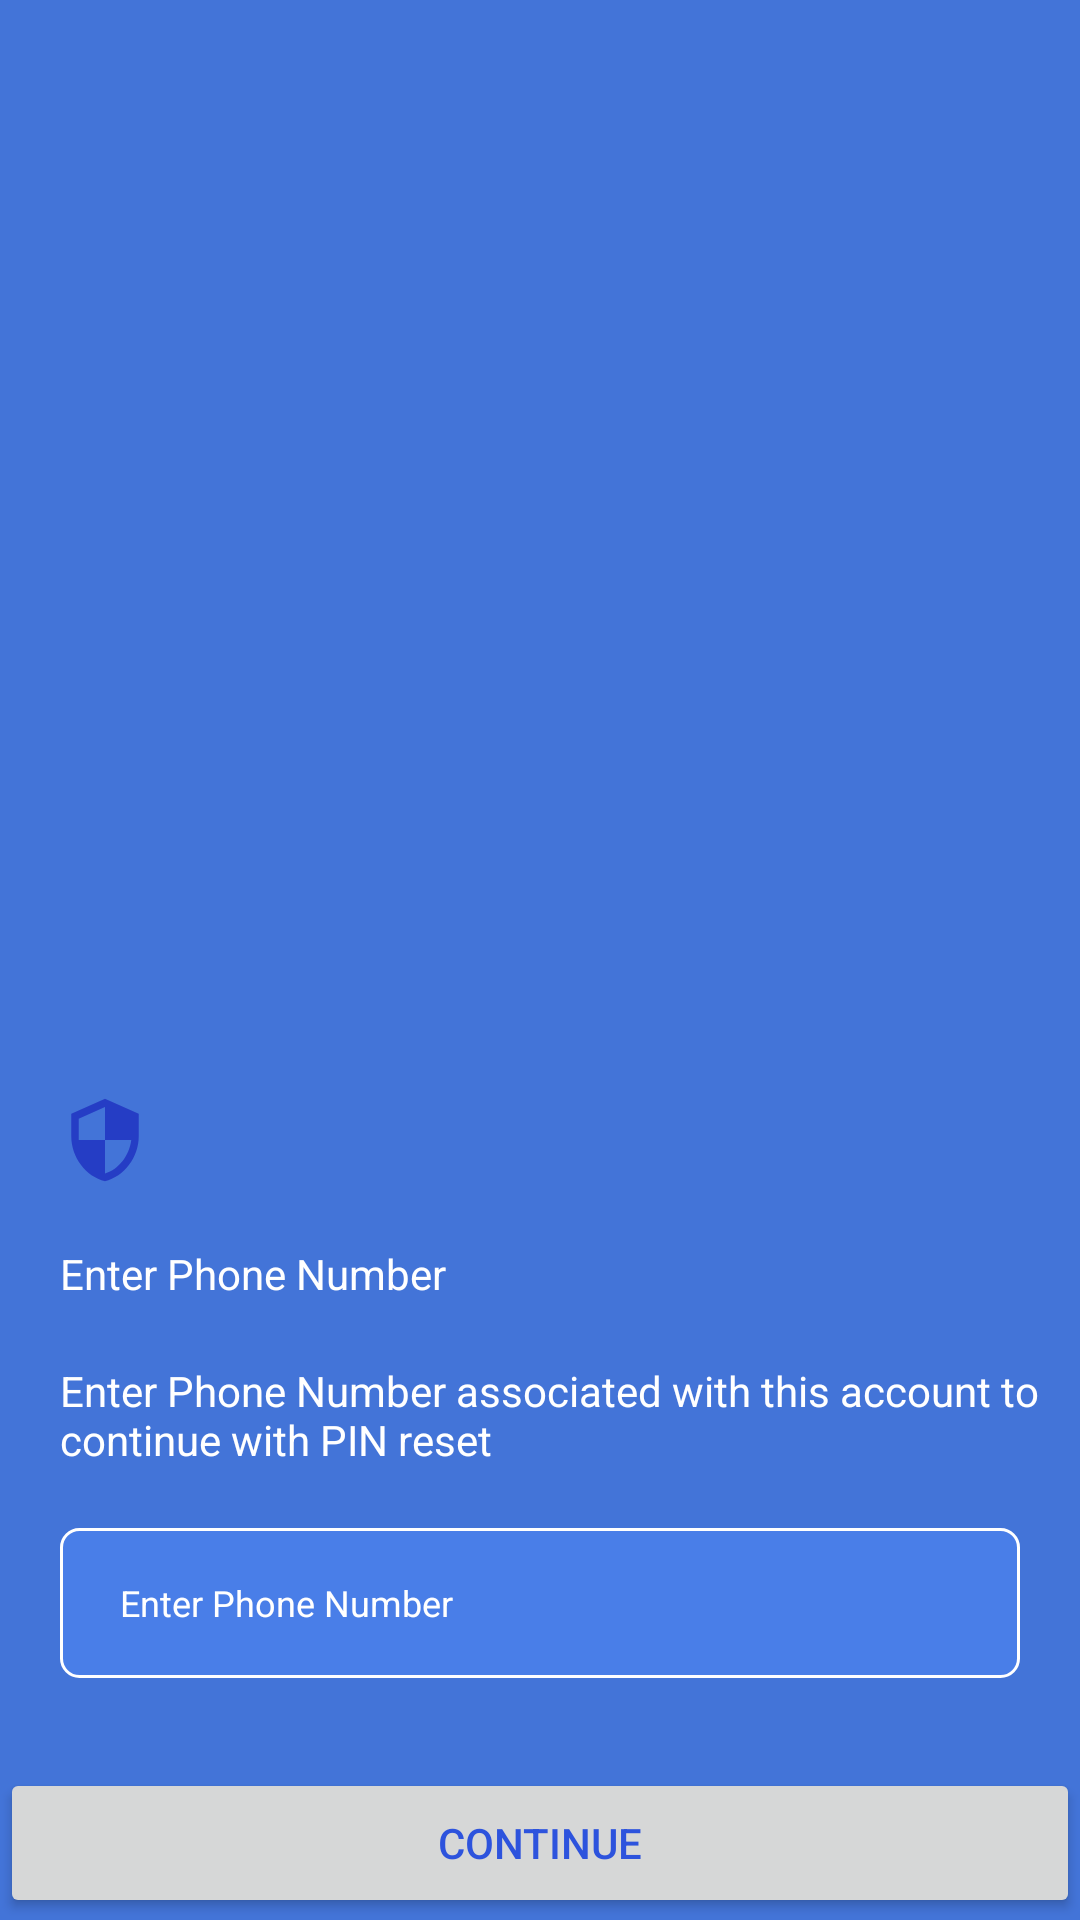

Named icons in this screenshot (1080px×1920px) and their centers, [x,y]:
security: [105,1140]
